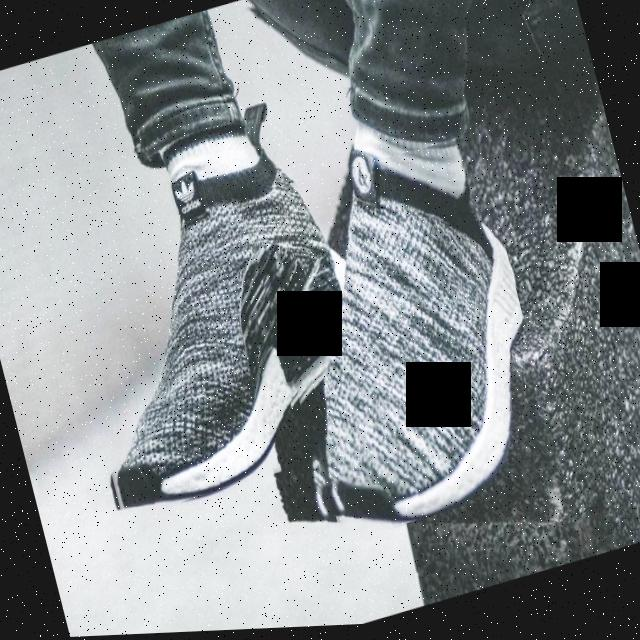shoe: (32, 114, 372, 525), (236, 128, 564, 552)
